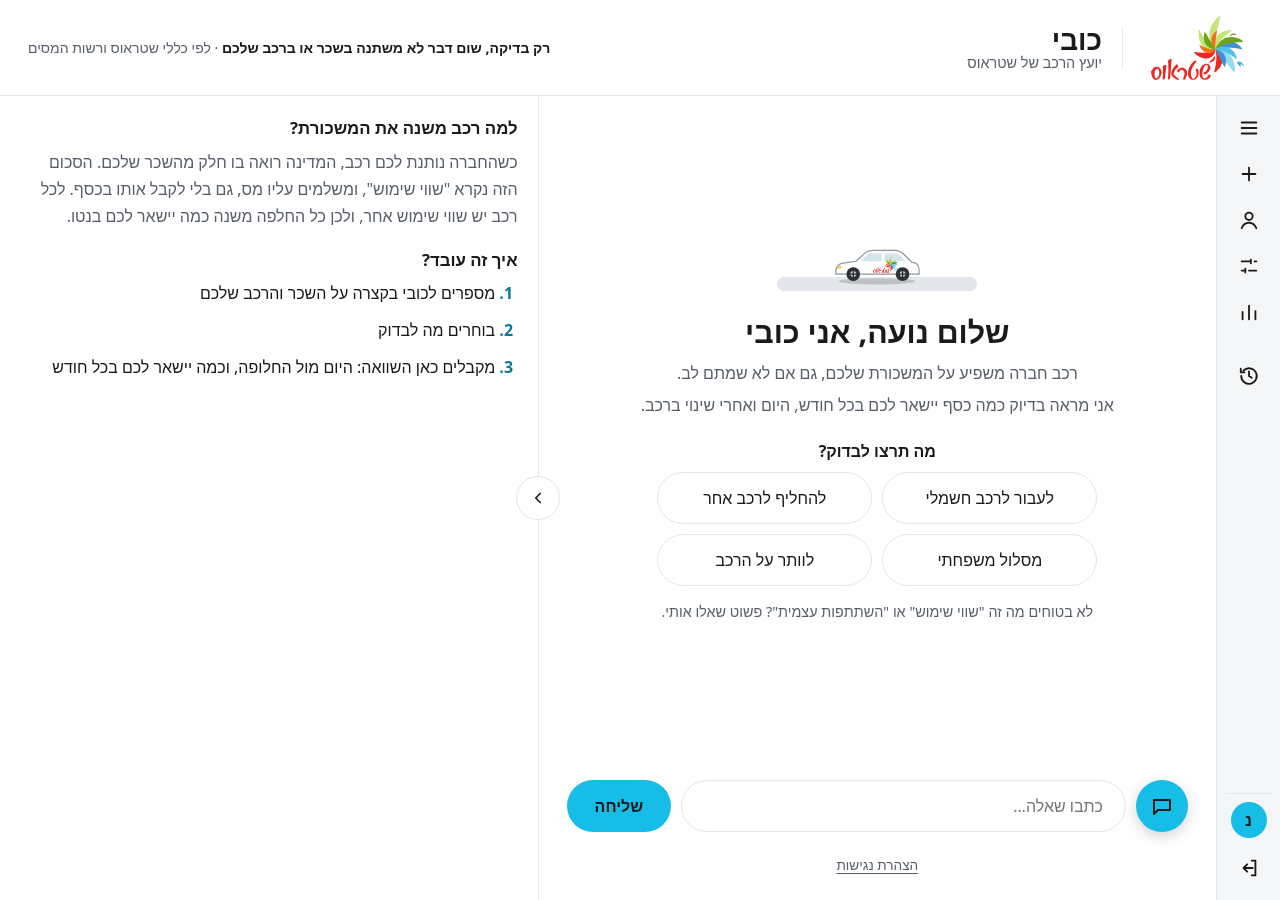
"פנייה" in the profile › saved with the profile: only the form of address when only it changed
Click the 2nd button named "פרופיל" at (1248, 220), box [1225, 198, 1272, 242]
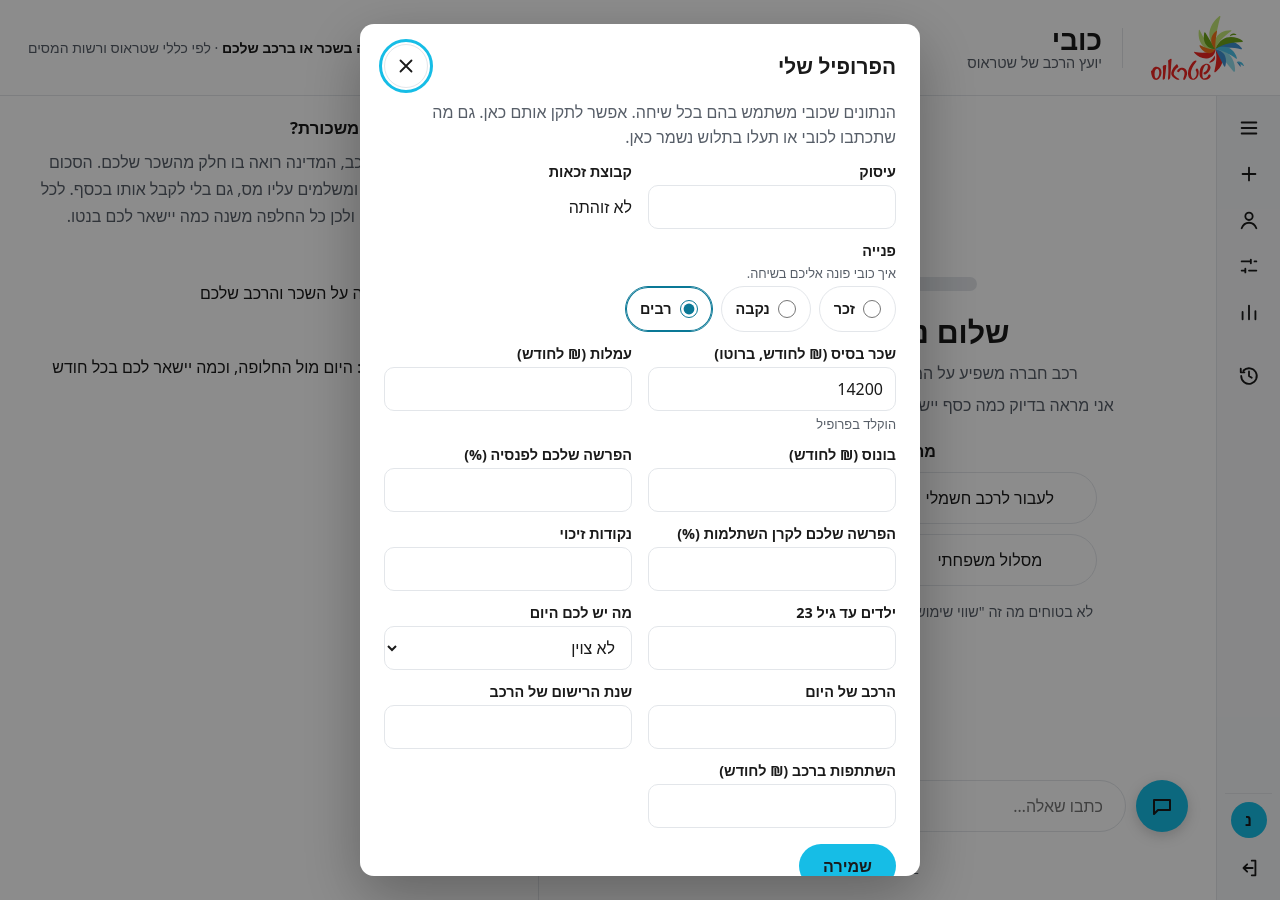
Click the radio button labelled "זכר" at (872, 309), box [863, 287, 881, 331]
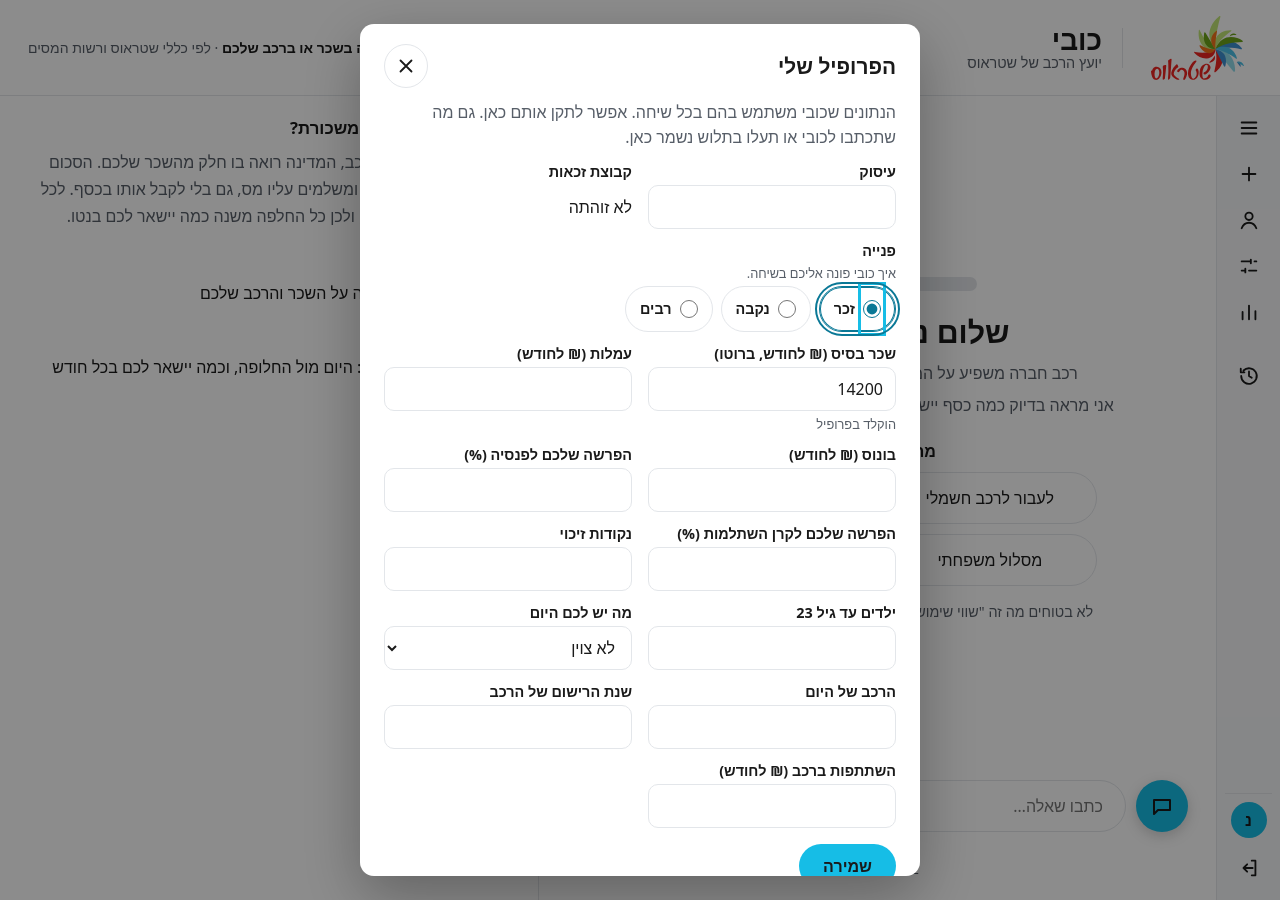
Click the button "שמירה" at (848, 866), box [799, 844, 896, 888]
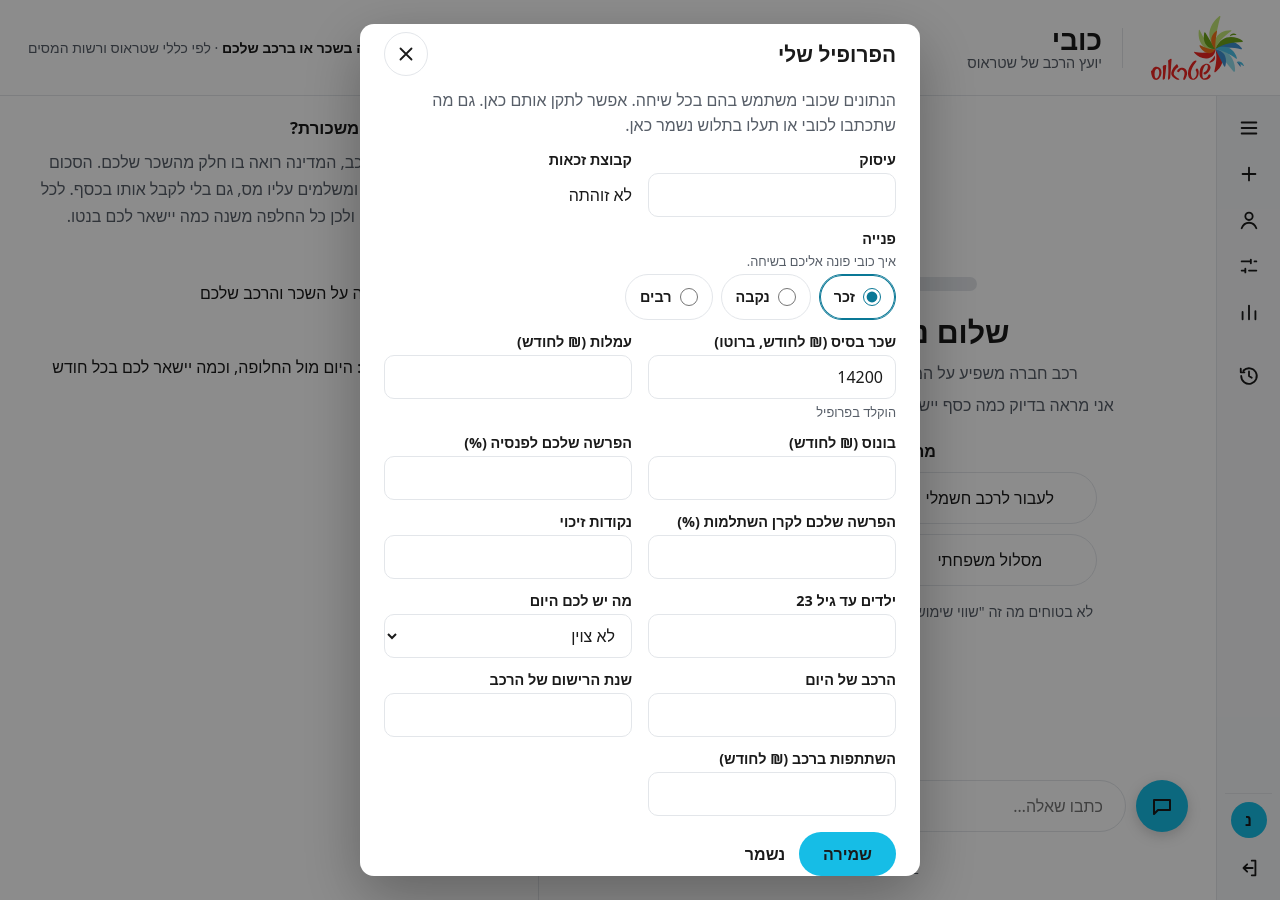
Expected: the text "נשמר" is shown, [745, 843, 785, 865]
